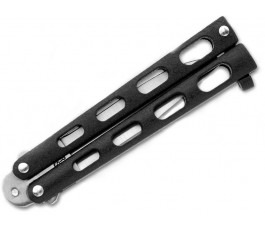knife: (2, 13, 254, 211)
